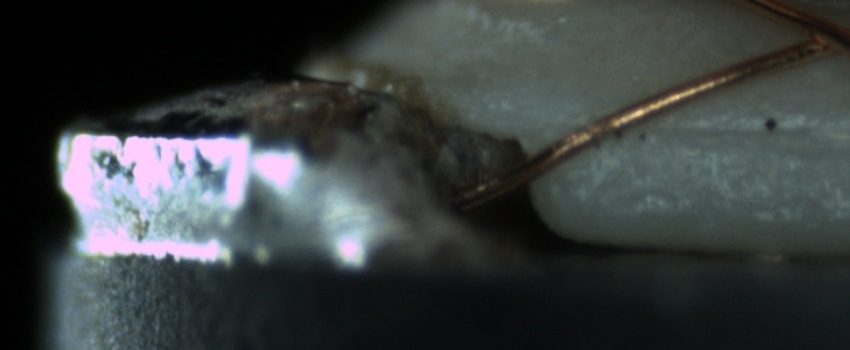CL: (776, 7, 850, 66)
DL: (629, 101, 843, 159)
